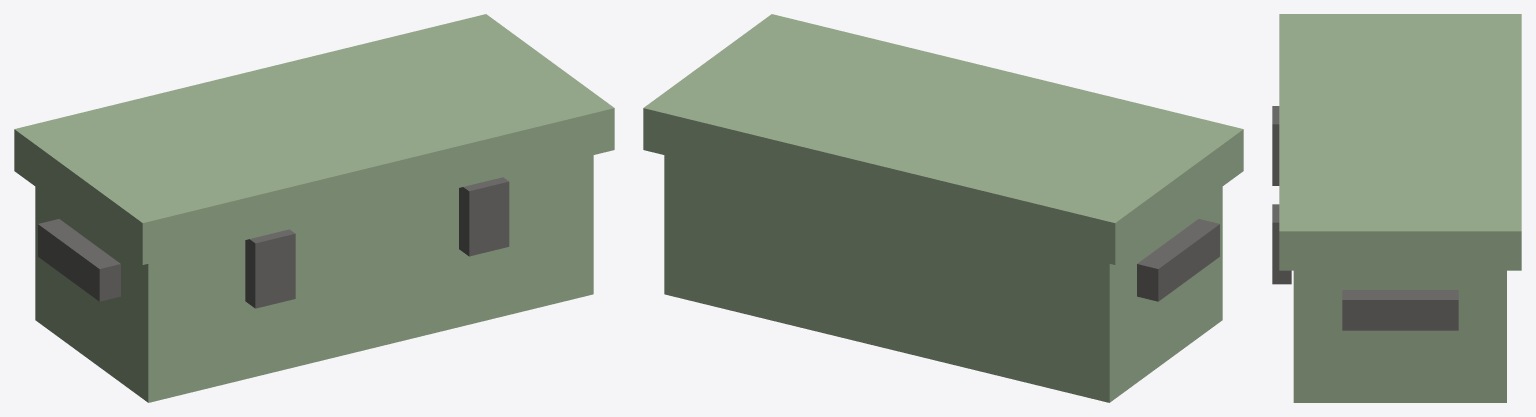
The model's file is greeble_toolbox.glb.
The picture shows the model from 3 angles, left to right: view 1: azimuth 30°, elevation 25°; view 2: azimuth 150°, elevation 25°; view 3: azimuth 270°, elevation 25°; orthographic projection. The views are drawn at different scales.
Visible parts, largest first — view 1: stowage_toolbox, stowage_toolbox_trim_dark; view 2: stowage_toolbox, stowage_toolbox_trim_dark; view 3: stowage_toolbox, stowage_toolbox_trim_dark.
Part boxes in pixels (x1,y1,x2,y2): stowage_toolbox: (14, 14, 614, 402); stowage_toolbox_trim_dark: (38, 177, 509, 308); stowage_toolbox: (643, 14, 1243, 402); stowage_toolbox_trim_dark: (1137, 219, 1219, 301); stowage_toolbox: (1279, 14, 1521, 402); stowage_toolbox_trim_dark: (1272, 106, 1458, 330).
Bounding box in the file's own units: 0.552 × 0.2025 × 0.257.
